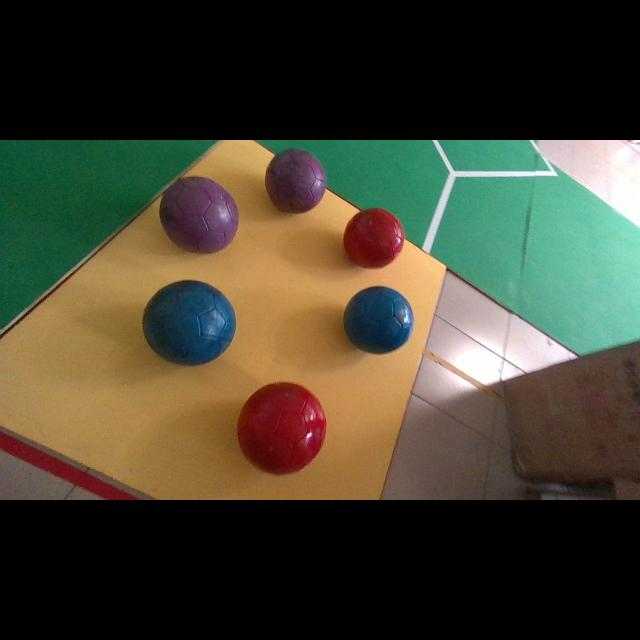B: (142, 280, 236, 365), (344, 286, 414, 353)
P: (160, 176, 239, 252), (265, 149, 326, 212)
R: (238, 382, 326, 473), (344, 208, 405, 269)
